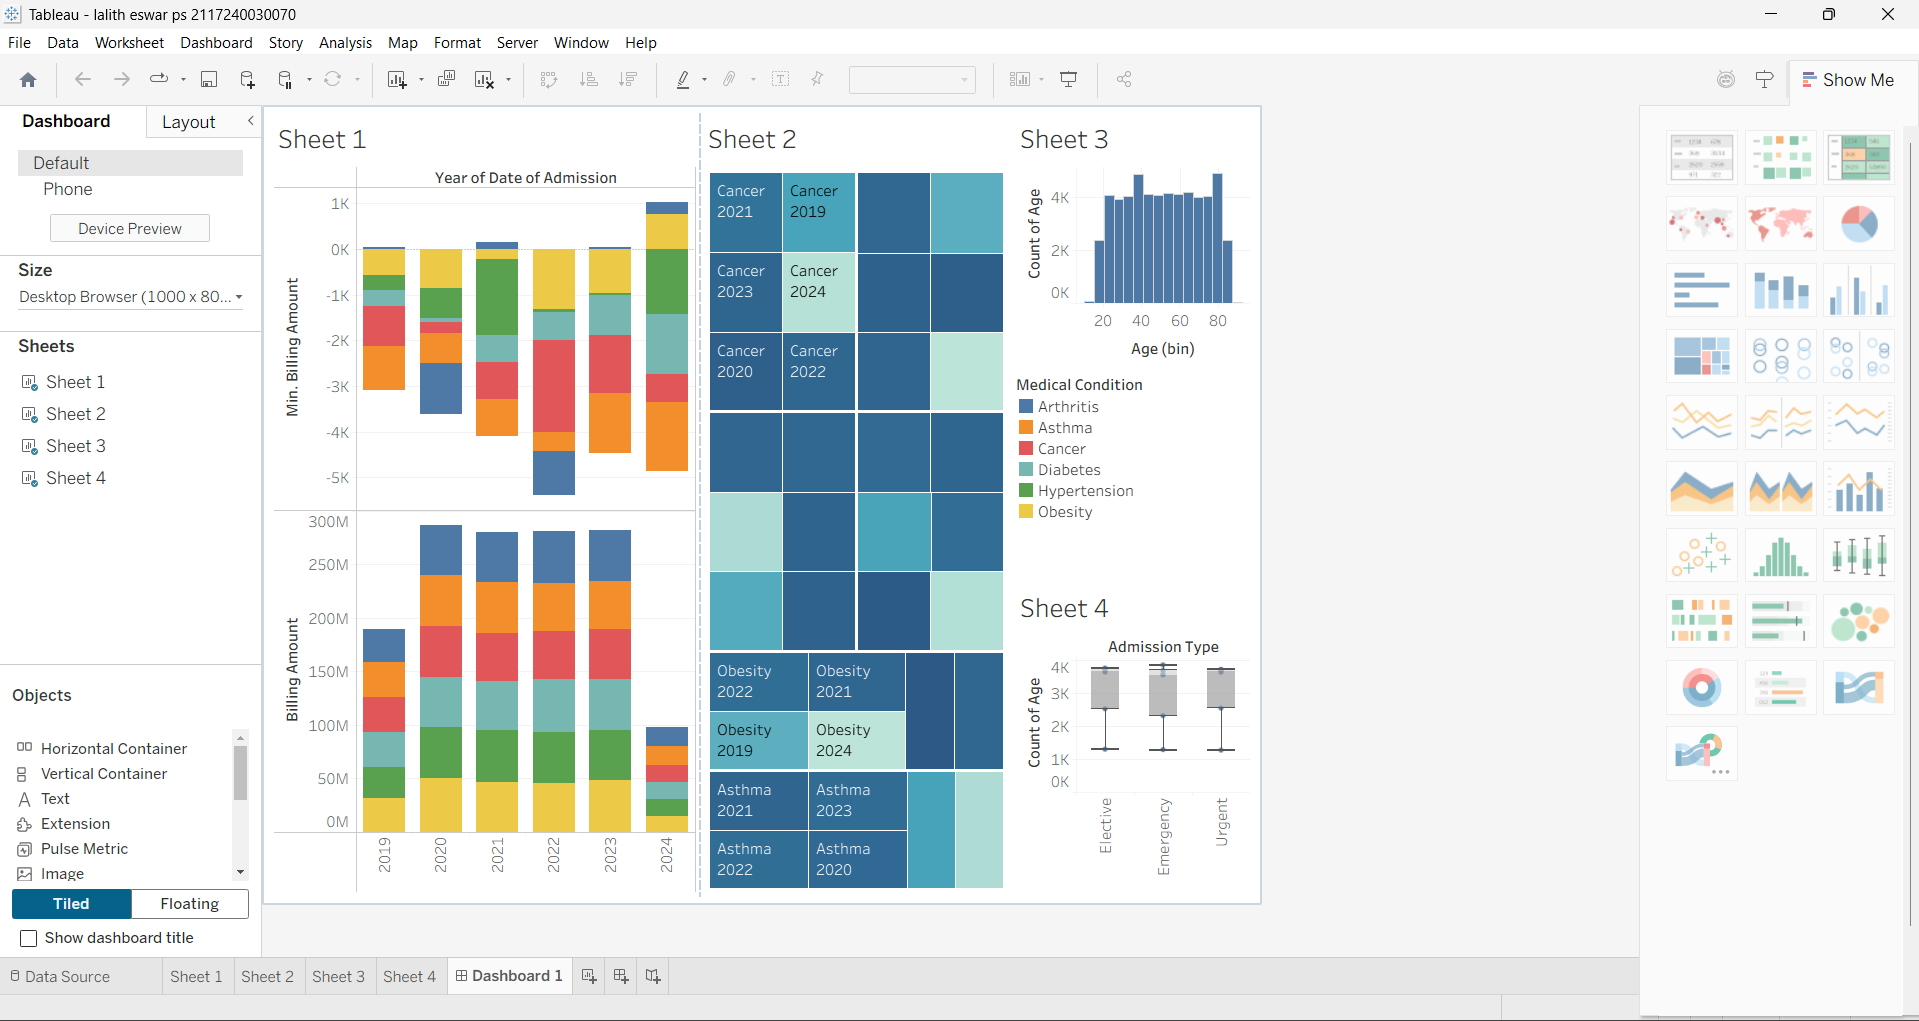

Layout of this report page (visuals, bound fields, positions):
{"tool":"tableau","page":{"name":"Dashboard 1","canvas":[1000,800],"ordinal":0},"visuals":[{"type":"worksheet","title":"Sheet 1","mark":"Bar","rows":["Billing Amount","Billing Amount"],"cols":["Date of Admission"],"box":[8,8,430,784]},{"type":"worksheet","title":"Sheet 2","mark":"Automatic","box":[438,8,312,784]},{"type":"worksheet","title":"Sheet 3","mark":"Automatic","rows":["Age"],"cols":["Age (bin)"],"box":[750,8,242,257.5]},{"type":"legend","title":"Sheet 1","param":"[federated.1adh17w1oaomml1e1ggsf117k0sl].[none:Medical Condition:nk]","box":[750,265.5,242,156]},{"type":"legend","title":"Sheet 3","param":"[federated.1adh17w1oaomml1e1ggsf117k0sl].[none:Admission Type:nk]","box":[750,421.5,242,24]},{"type":"legend","title":"Sheet 4","param":"[federated.1adh17w1oaomml1e1ggsf117k0sl].[none:Hospital:nk]","box":[750,445.5,242,32]},{"type":"worksheet","title":"Sheet 4","mark":"Circle","rows":["Age"],"cols":["Admission Type"],"box":[750,477.5,242,314.5]}]}

Visuals, with their boxes on the page's 1000x800 design canvas (x1, y1, x2, y2). These are canvas units, not pixel positions in the 1919x1021 screenshot, which may show the page scaled, cropped or inside an application window:
"Sheet 1" worksheet (Bar marks): box(8, 8, 438, 792)
"Sheet 2" worksheet: box(438, 8, 750, 792)
"Sheet 3" worksheet: box(750, 8, 992, 266)
"Sheet 1" legend: box(750, 266, 992, 422)
"Sheet 3" legend: box(750, 422, 992, 446)
"Sheet 4" legend: box(750, 446, 992, 478)
"Sheet 4" worksheet (Circle marks): box(750, 478, 992, 792)
